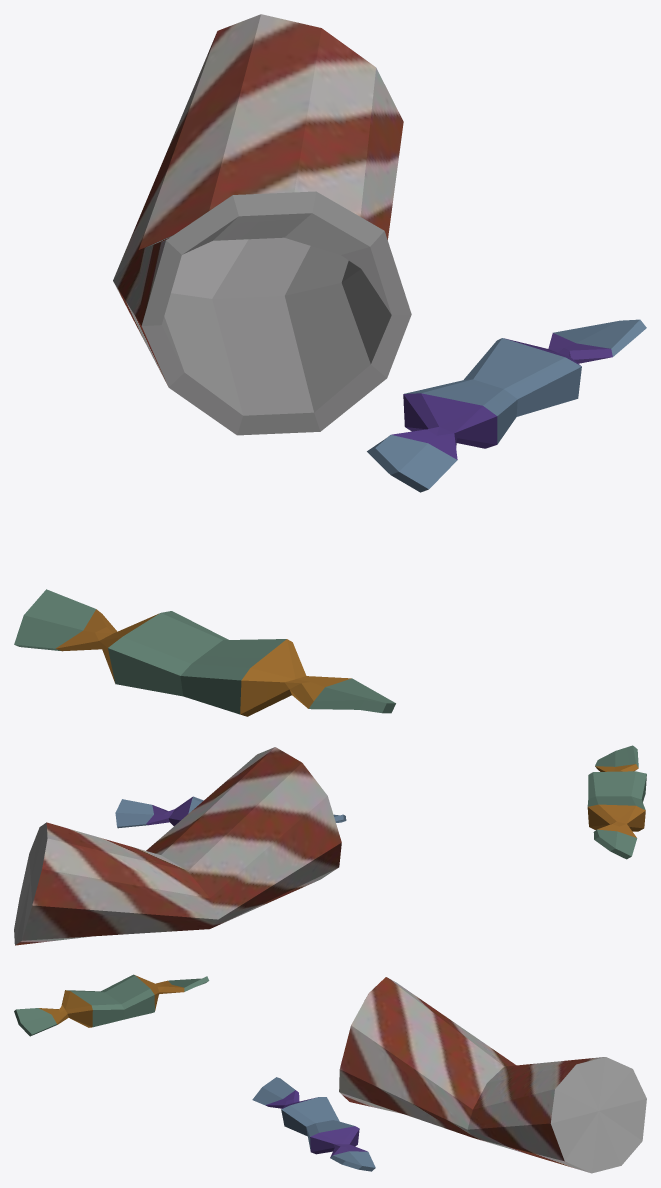
The model's file is SM_Prop_Rubbish_Pile_04.glb.
3 views of the same model, one above another, from view 1: azimuth 30°, elevation 25°; view 2: azimuth 150°, elevation 25°; view 3: azimuth 270°, elevation 25° (orthographic). The views are drawn at different scales.
Visible parts, largest first — view 1: SM_Prop_Rubbish_Pile_04; view 2: SM_Prop_Rubbish_Pile_04; view 3: SM_Prop_Rubbish_Pile_04.
Part boxes in pixels (<box>): SM_Prop_Rubbish_Pile_04: <box>14,14,646,716</box>; SM_Prop_Rubbish_Pile_04: <box>14,745,646,945</box>; SM_Prop_Rubbish_Pile_04: <box>14,974,646,1173</box>.
Bounding box in the file's own units: 45.64 × 13.03 × 63.56.
Materials: 1 (1 with a texture image).
